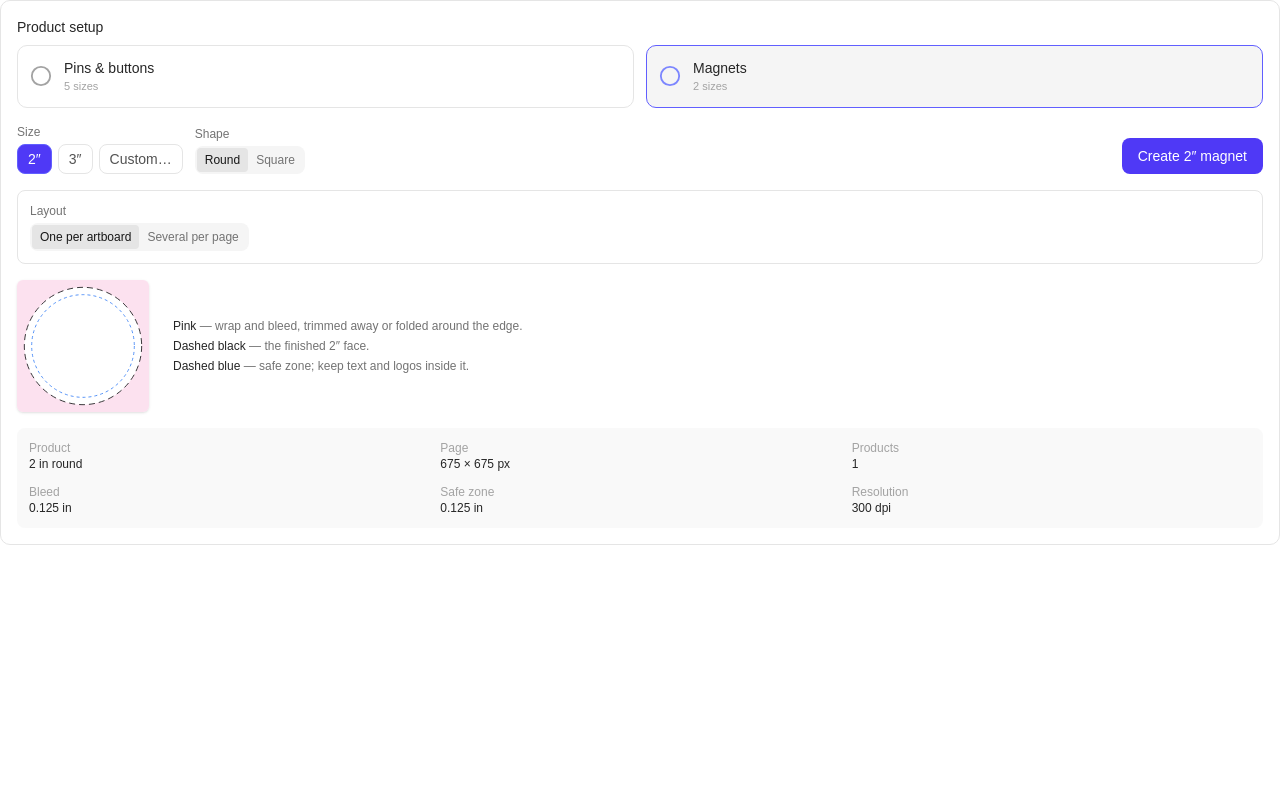
Test case: ProductSetupPanel — custom sizes (PROD-001) › refuses to create a size nothing could be made at, and says the range
The width and height of the screenshot is (1280, 800).
Click the button "Custom…": (141, 158) [98, 144, 183, 174]
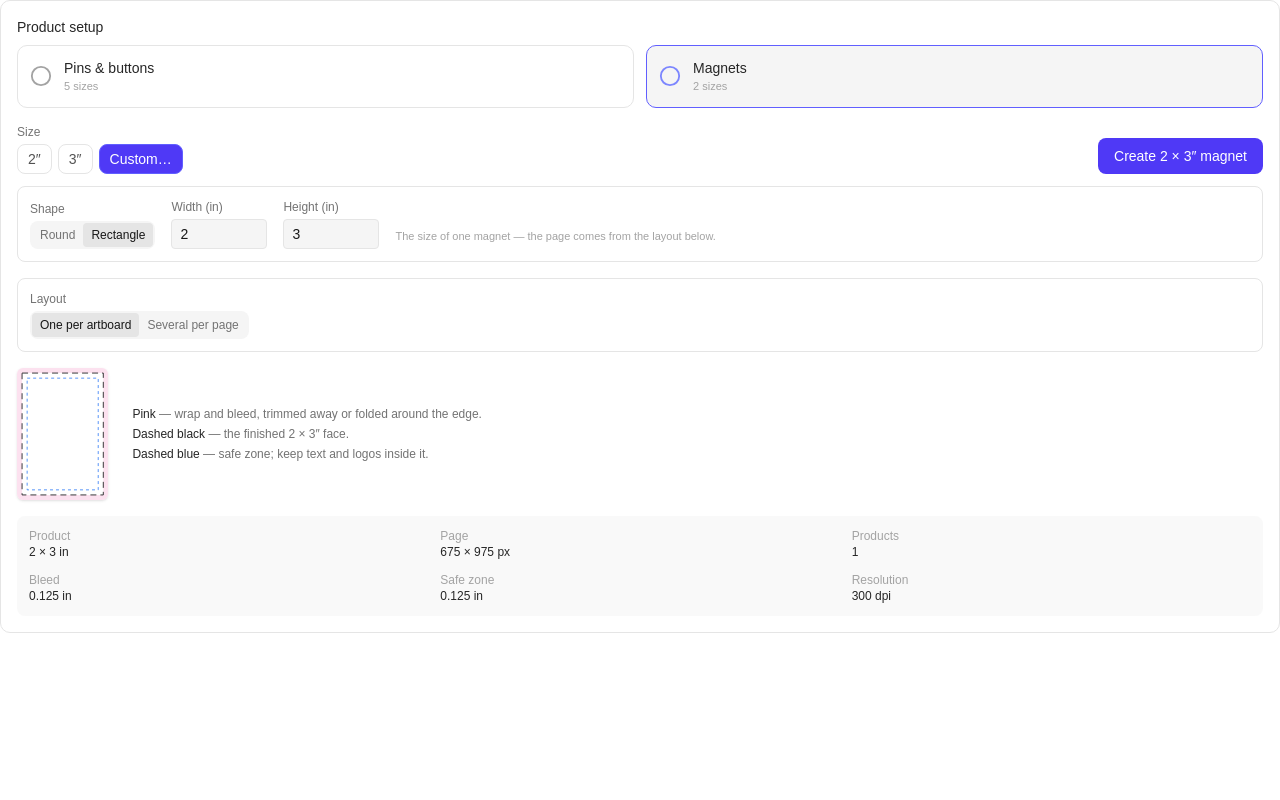
Replace the text in the number field labelled "Width (in)" with "0": (219, 234) [171, 218, 267, 248]
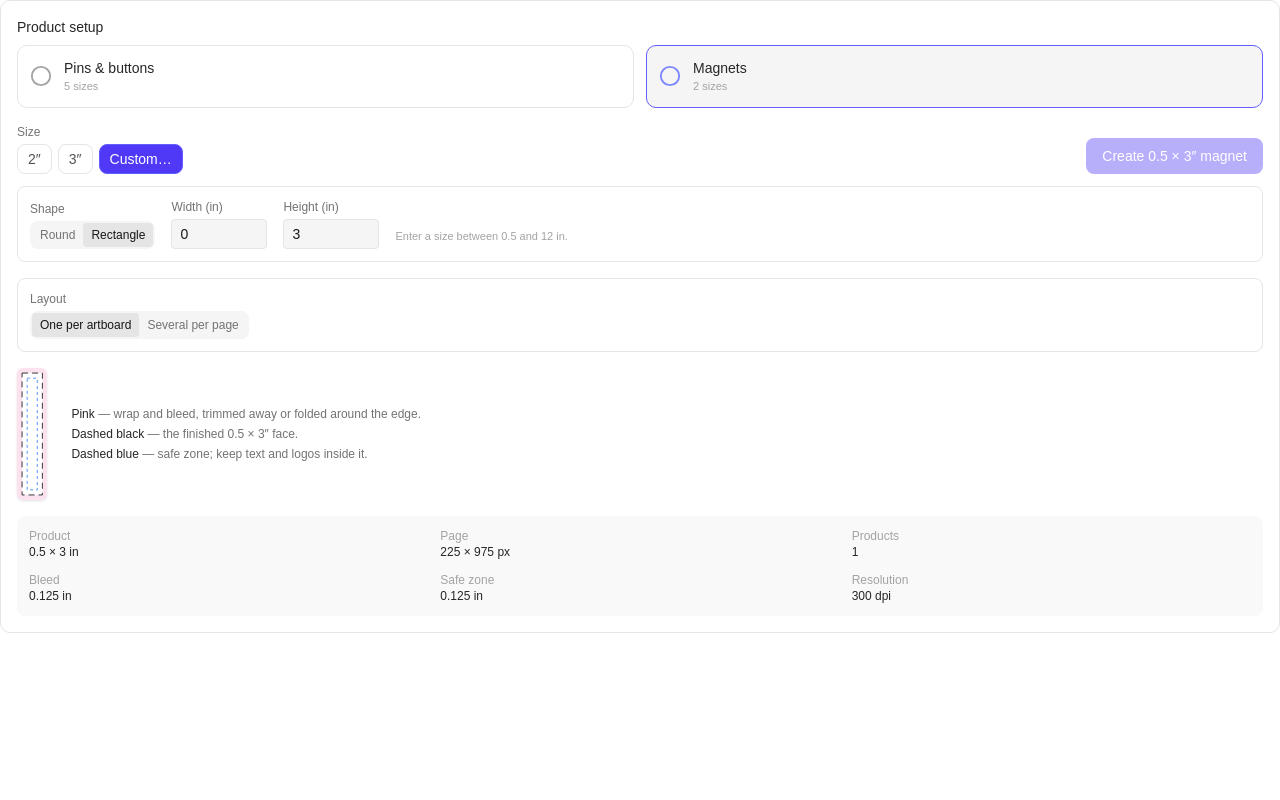
Result: the text "Enter a size between 0.5 and 12 in." is shown at [395, 230, 568, 242]
Result: the button "Create 0.5 × 3″ magnet" is disabled at [1086, 138, 1263, 174]
